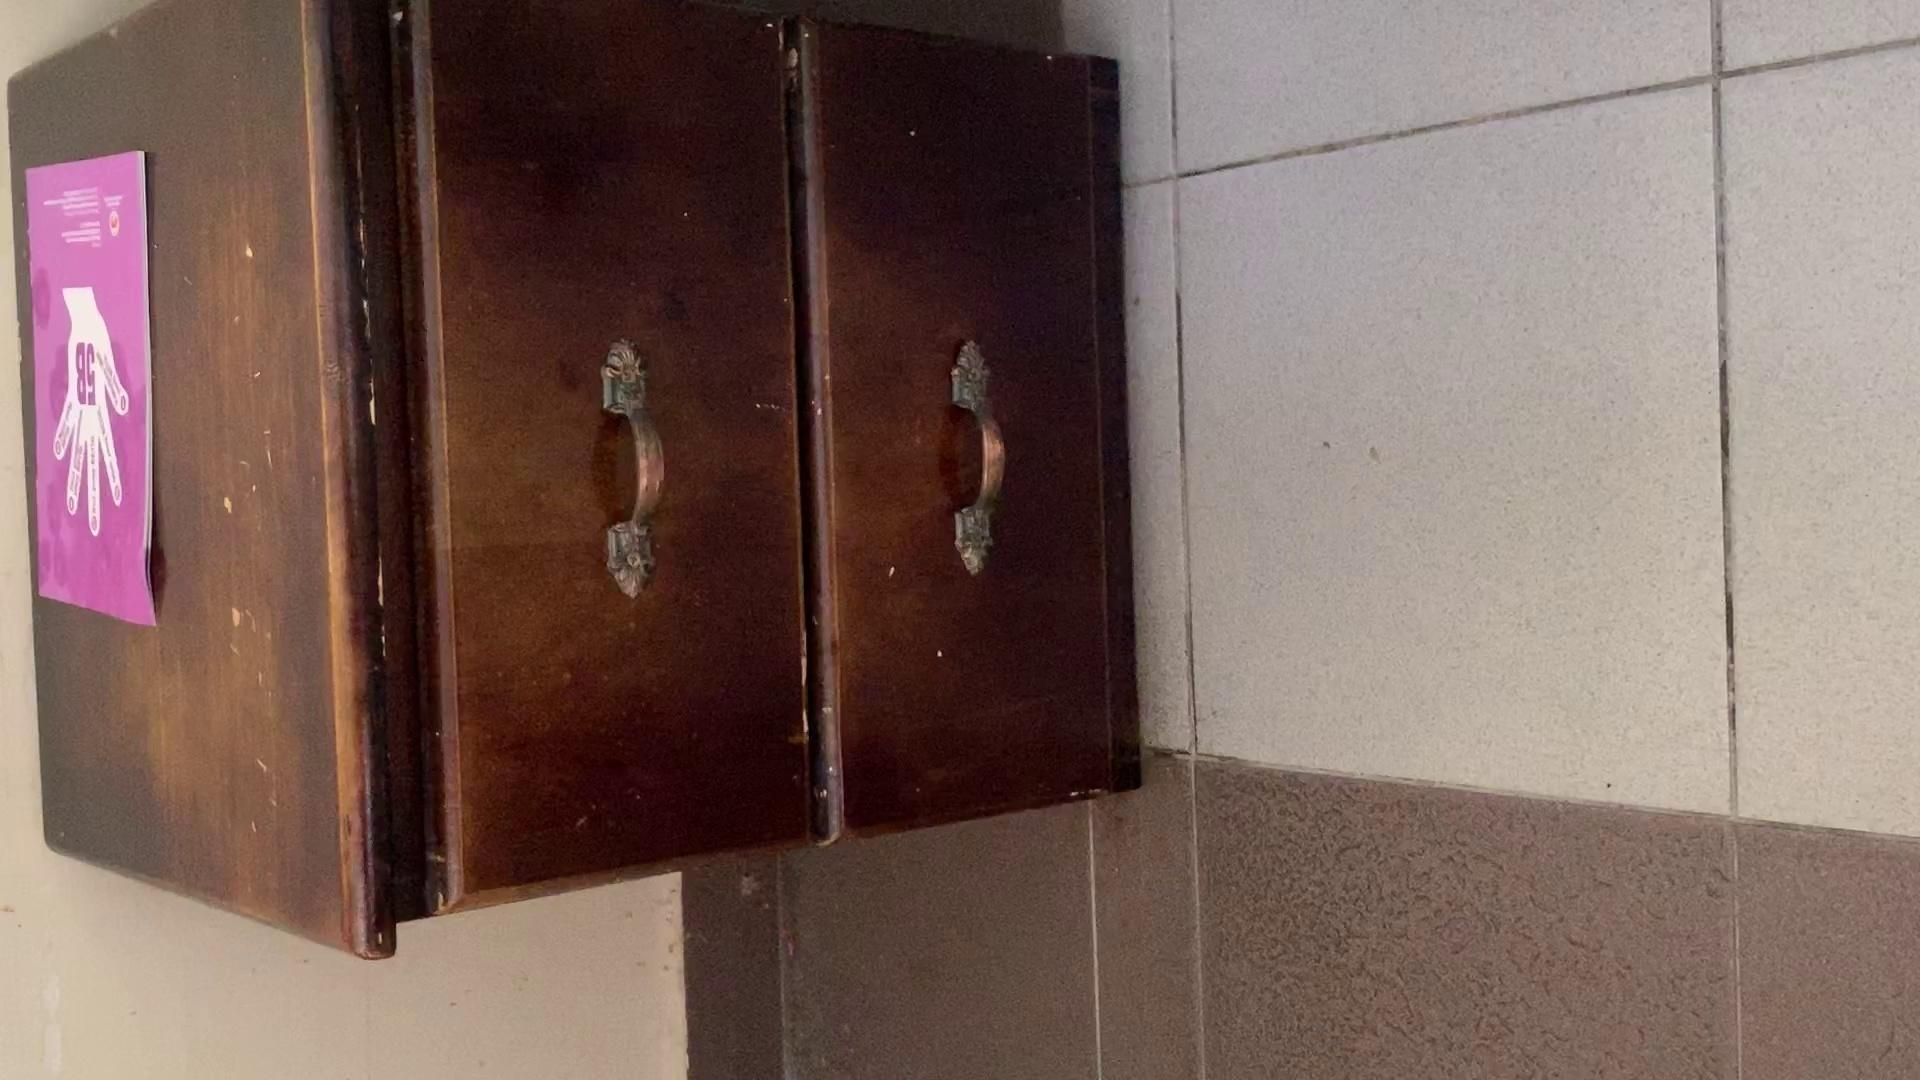cabinet_door: (404, 8, 800, 870), (806, 37, 1102, 803)
handle: (588, 326, 691, 613), (936, 331, 1038, 582)
